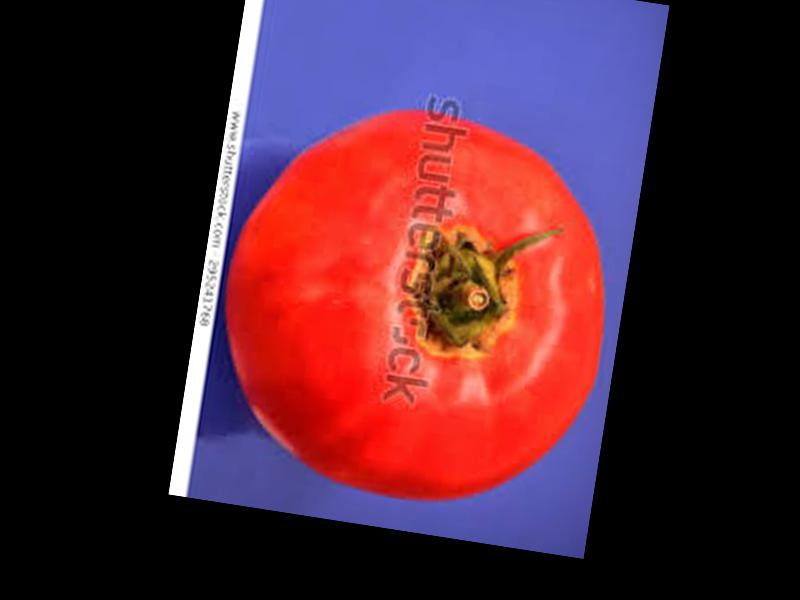Tomato: (206, 85, 632, 526)
